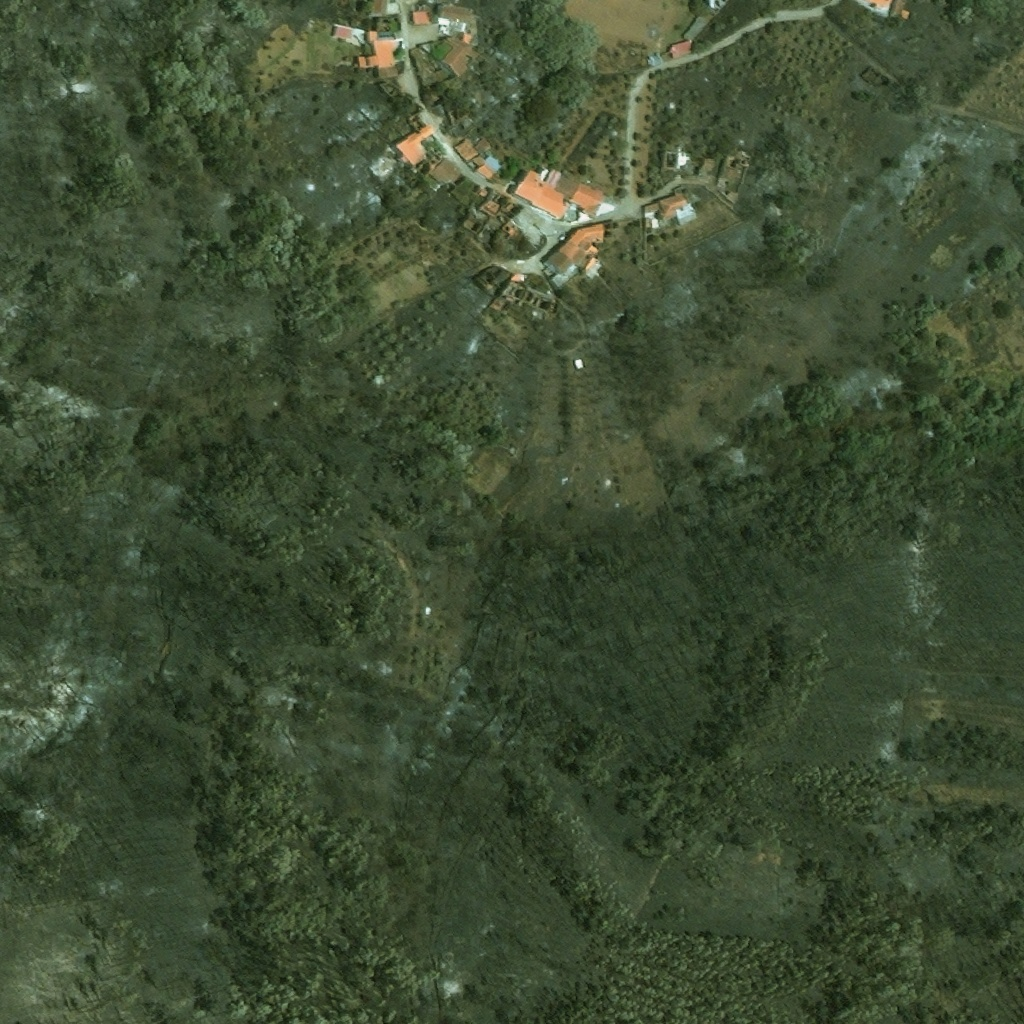0 no-damage: (543, 220, 621, 287), (517, 167, 609, 218), (358, 30, 400, 80), (440, 36, 481, 77), (644, 191, 698, 222), (430, 158, 466, 188), (473, 154, 504, 180), (683, 15, 710, 41), (455, 136, 478, 163), (701, 0, 728, 21), (667, 41, 693, 59), (583, 256, 602, 277), (409, 8, 431, 26), (331, 25, 353, 41), (701, 157, 717, 172), (645, 212, 659, 229), (646, 52, 662, 66), (890, 0, 903, 16), (475, 139, 489, 153), (725, 191, 740, 204), (370, 373, 382, 386), (462, 33, 473, 43), (900, 9, 910, 18), (422, 607, 429, 617), (576, 360, 582, 367)
2 major-damage: (479, 186, 538, 235), (396, 111, 436, 164), (716, 149, 743, 180), (666, 150, 687, 170), (490, 298, 509, 314)
3 destroyed: (499, 272, 556, 313), (411, 145, 444, 177), (438, 4, 473, 31), (459, 211, 491, 238)
4 un-classified: (368, 0, 401, 14), (859, 0, 892, 12)
